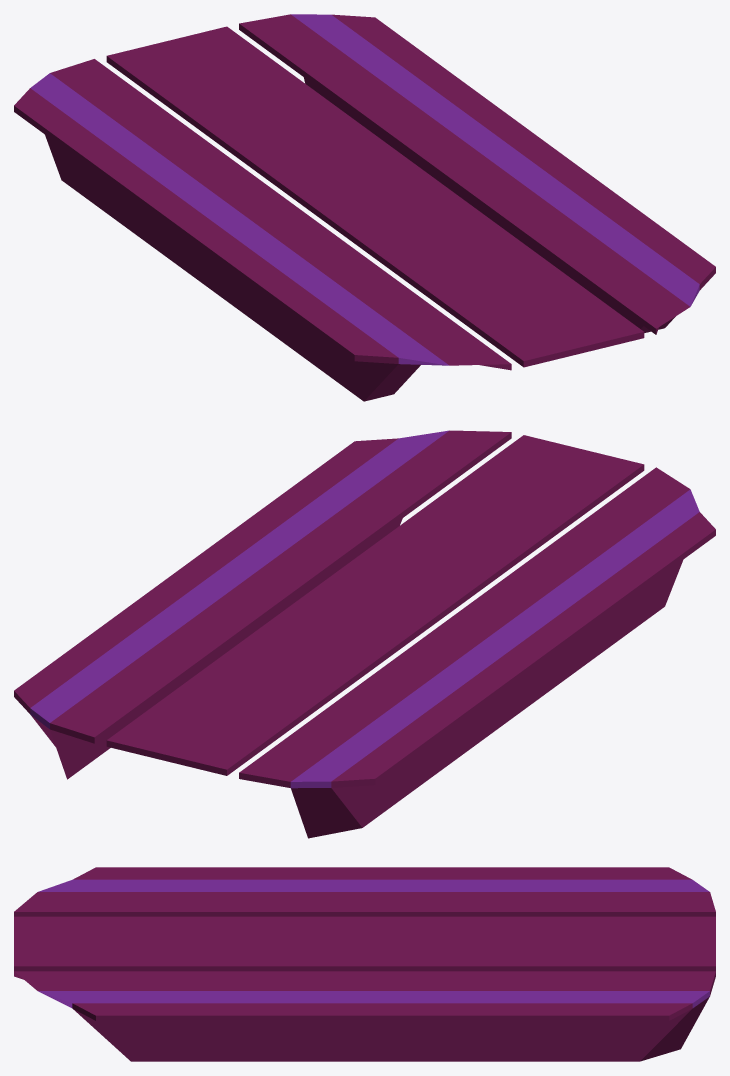
Rendered from sled64.glb.
The picture shows the model from 3 angles, top to bottom: view 1: azimuth 30°, elevation 25°; view 2: azimuth 150°, elevation 25°; view 3: azimuth 270°, elevation 25°; orthographic projection. The views are drawn at different scales.
Parts seen in each view (by area): view 1: sled64; view 2: sled64; view 3: sled64.
Part boxes in pixels (x1,y1,x2,y2): sled64: [14, 14, 715, 401]; sled64: [14, 430, 715, 838]; sled64: [14, 867, 715, 1061].
Bounding box in the file's own units: 0.3 × 0.055 × 0.6.
